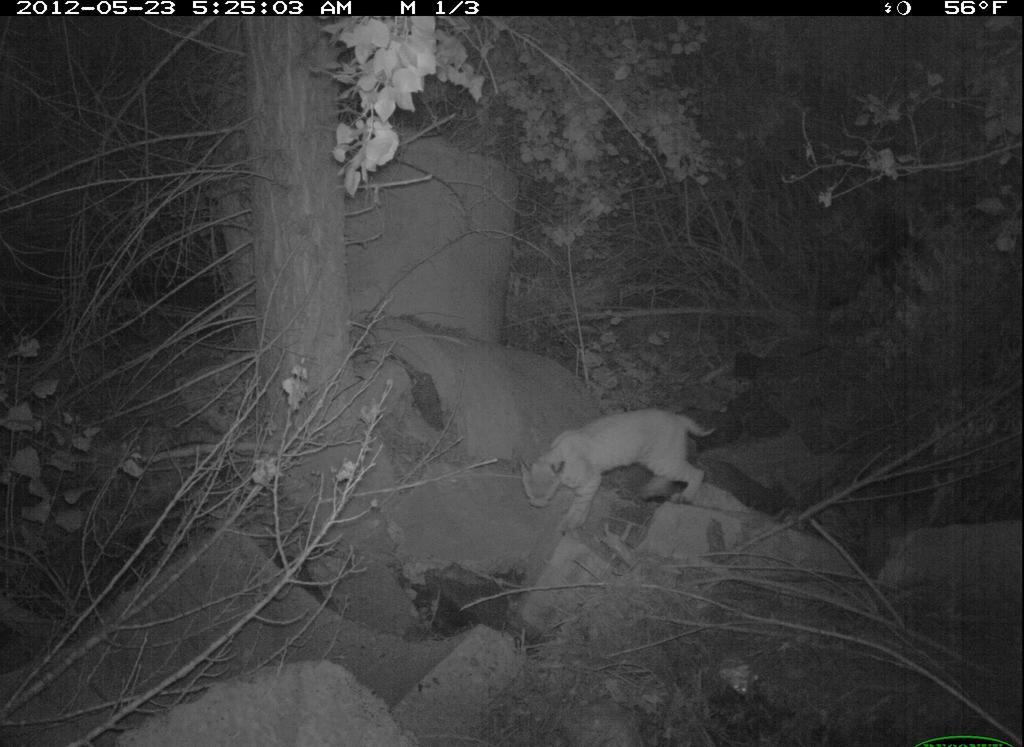bobcat: (515, 402, 725, 541)
